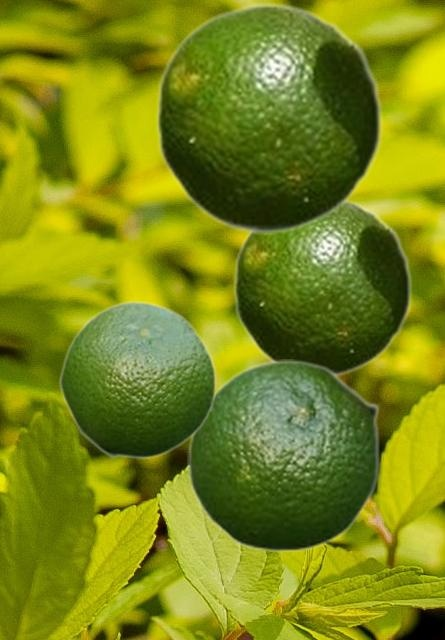calamansi: (154, 2, 383, 233), (187, 359, 380, 552), (232, 197, 412, 376), (58, 299, 216, 458)
